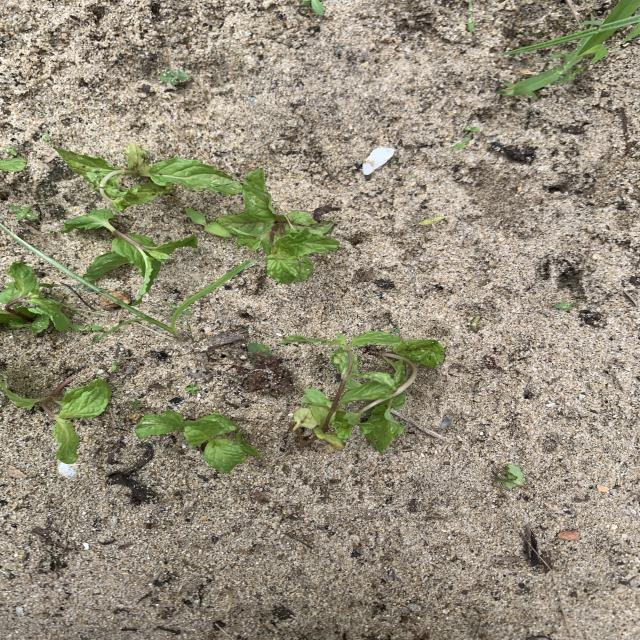crop: (292, 333, 443, 451), (194, 168, 339, 283), (57, 144, 242, 212), (61, 209, 197, 297), (1, 380, 110, 462), (137, 409, 261, 471), (0, 261, 71, 331)
weed: (6, 230, 256, 339), (499, 0, 639, 98), (494, 464, 524, 488), (1, 143, 26, 171), (452, 127, 479, 150), (12, 204, 39, 220), (300, 0, 323, 14), (247, 343, 270, 354), (420, 216, 444, 226), (466, 1, 474, 31), (555, 301, 578, 311), (72, 325, 103, 332), (185, 384, 201, 395), (108, 361, 117, 372), (130, 400, 142, 408)
